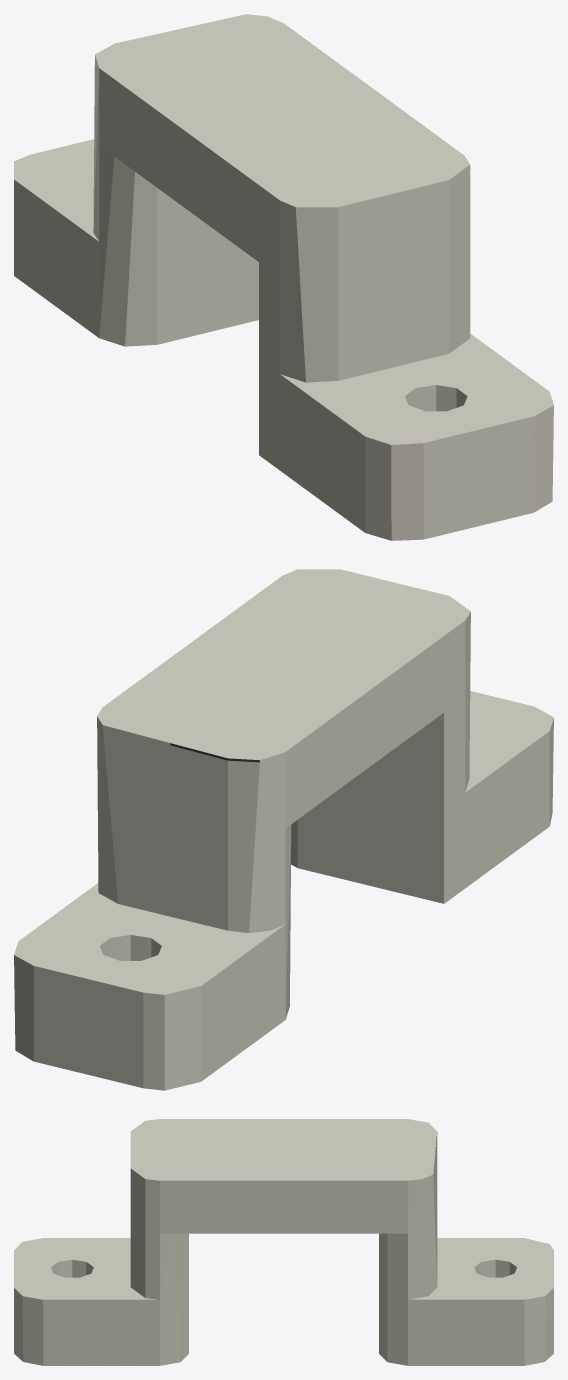
The model's file is 3_Detail.fbx.
3 views of the same model, one above another, from view 1: azimuth 30°, elevation 25°; view 2: azimuth 150°, elevation 25°; view 3: azimuth 270°, elevation 25° (orthographic). The views are drawn at different scales.
Parts seen in each view (by area): view 1: 3_Detail; view 2: 3_Detail; view 3: 3_Detail.
Boxes of the visible parts, x1,y1,x2,y2 form: 3_Detail: (14, 14, 553, 540); 3_Detail: (14, 569, 553, 1090); 3_Detail: (14, 1119, 553, 1365).
Size of the model in its own units: 1000 by 1400 by 3700.
Materials: 2 (2 with a texture image).
